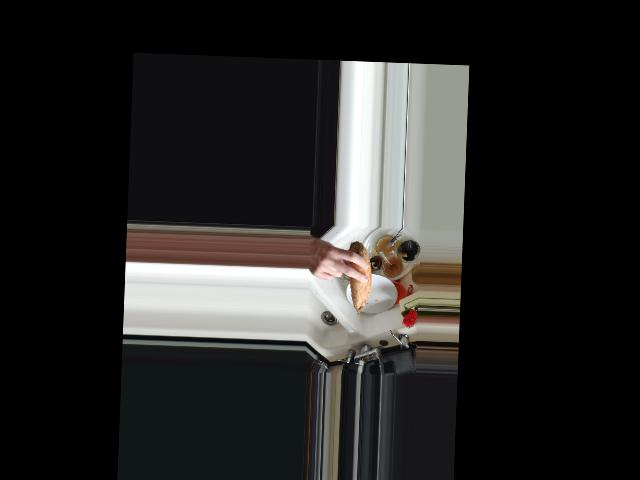sweet_potato: (342, 238, 372, 318)
